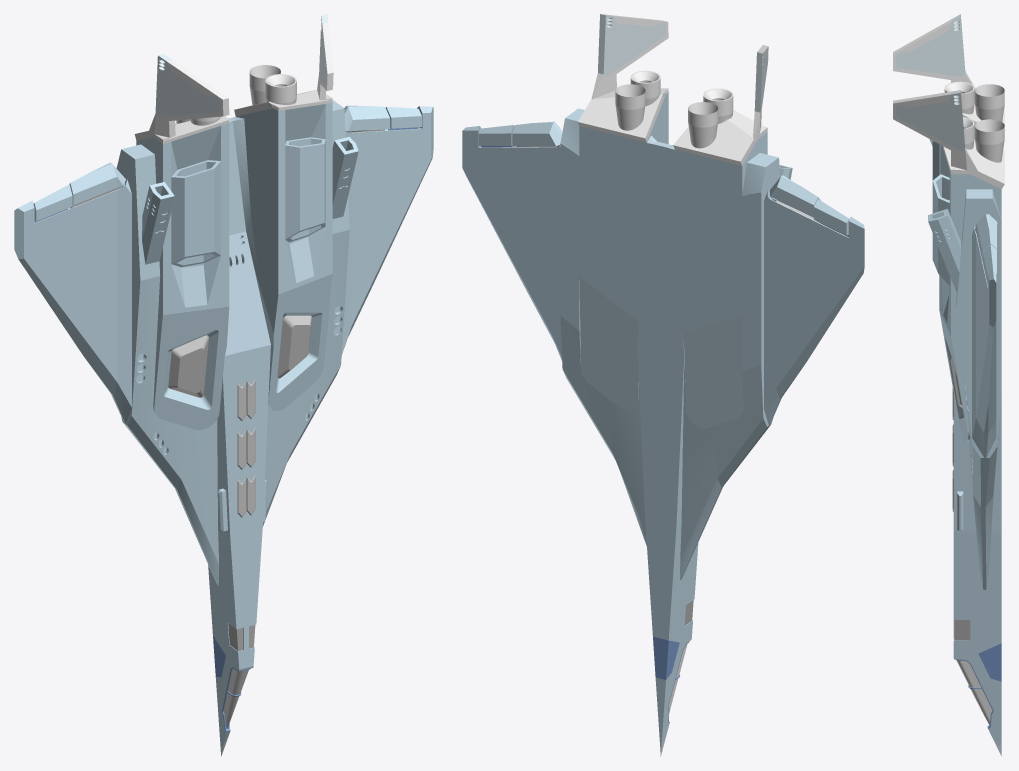
File: CAD Model.gltf
3 views of the same model, side by side, from view 1: azimuth 30°, elevation 25°; view 2: azimuth 150°, elevation 25°; view 3: azimuth 270°, elevation 25° (orthographic). The views are drawn at different scales.
Parts seen in each view (by area): view 1: Part 1 (×3), Part 21, Part 12, Part 6, Part 2 (×3), Part 3, Part 23, Part 24, Part 22, Part 7, Part 8; view 2: Part 1 (×3), Part 12, Part 21, Part 6, Part 2 (×2), Part 3 (×2), Part 23, Part 4, Part 7, Part 11, Part 8; view 3: Part 1 (×2), Part 12, Part 2 (×2), Part 3 (×2), Part 23, Part 24, Part 4, Part 11, Part 8, Part 16, Part 15, Part 21.
Boxes of the visible parts, x1=… form: Part 1 (×3): x1=116, y1=103, x2=433, y2=585; Part 21: x1=136, y1=123, x2=229, y2=429; Part 12: x1=208, y1=118, x2=270, y2=746; Part 6: x1=14, y1=179, x2=131, y2=423; Part 2 (×3): x1=262, y1=100, x2=390, y2=526; Part 3: x1=234, y1=22, x2=333, y2=116; Part 23: x1=134, y1=60, x2=229, y2=144; Part 24: x1=155, y1=54, x2=220, y2=116; Part 22: x1=168, y1=335, x2=208, y2=397; Part 7: x1=69, y1=162, x2=125, y2=205; Part 8: x1=33, y1=184, x2=72, y2=221; Part 1 (×3): x1=462, y1=92, x2=792, y2=579; Part 12: x1=637, y1=141, x2=698, y2=744; Part 21: x1=668, y1=132, x2=767, y2=428; Part 6: x1=764, y1=191, x2=864, y2=425; Part 2 (×2): x1=512, y1=108, x2=646, y2=546; Part 3 (×2): x1=478, y1=15, x2=668, y2=145; Part 23: x1=673, y1=45, x2=768, y2=165; Part 4: x1=598, y1=14, x2=665, y2=75; Part 7: x1=770, y1=175, x2=820, y2=217; Part 11: x1=653, y1=636, x2=679, y2=679; Part 8: x1=814, y1=199, x2=849, y2=235; Part 1 (×2): x1=932, y1=144, x2=1001, y2=457; Part 12: x1=953, y1=393, x2=1001, y2=745; Part 2 (×2): x1=928, y1=189, x2=1001, y2=589; Part 3 (×2): x1=893, y1=91, x2=1004, y2=285; Part 23: x1=893, y1=19, x2=1004, y2=137; Part 24: x1=895, y1=14, x2=965, y2=76; Part 4: x1=895, y1=90, x2=965, y2=150; Part 11: x1=978, y1=643, x2=1001, y2=681; Part 8: x1=954, y1=620, x2=970, y2=640; Part 16: x1=970, y1=689, x2=992, y2=725; Part 15: x1=956, y1=660, x2=981, y2=687; Part 21: x1=932, y1=141, x2=939, y2=180.
Size of the model in its own units: 0.1752 by 0.2944 by 0.0424.
